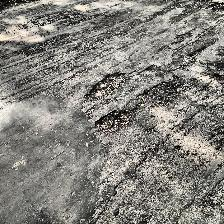pothole: (83, 71, 127, 102), (134, 80, 182, 108), (93, 108, 133, 135)
